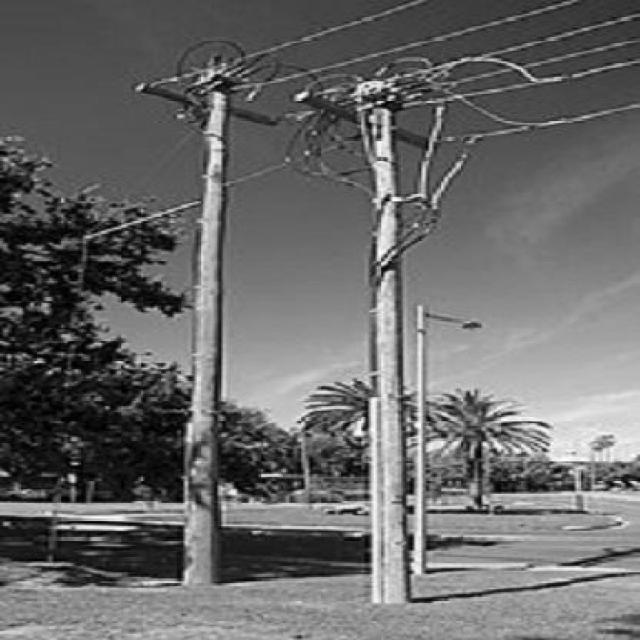Pole: (360, 106, 410, 603), (182, 90, 230, 586), (411, 305, 429, 575)
